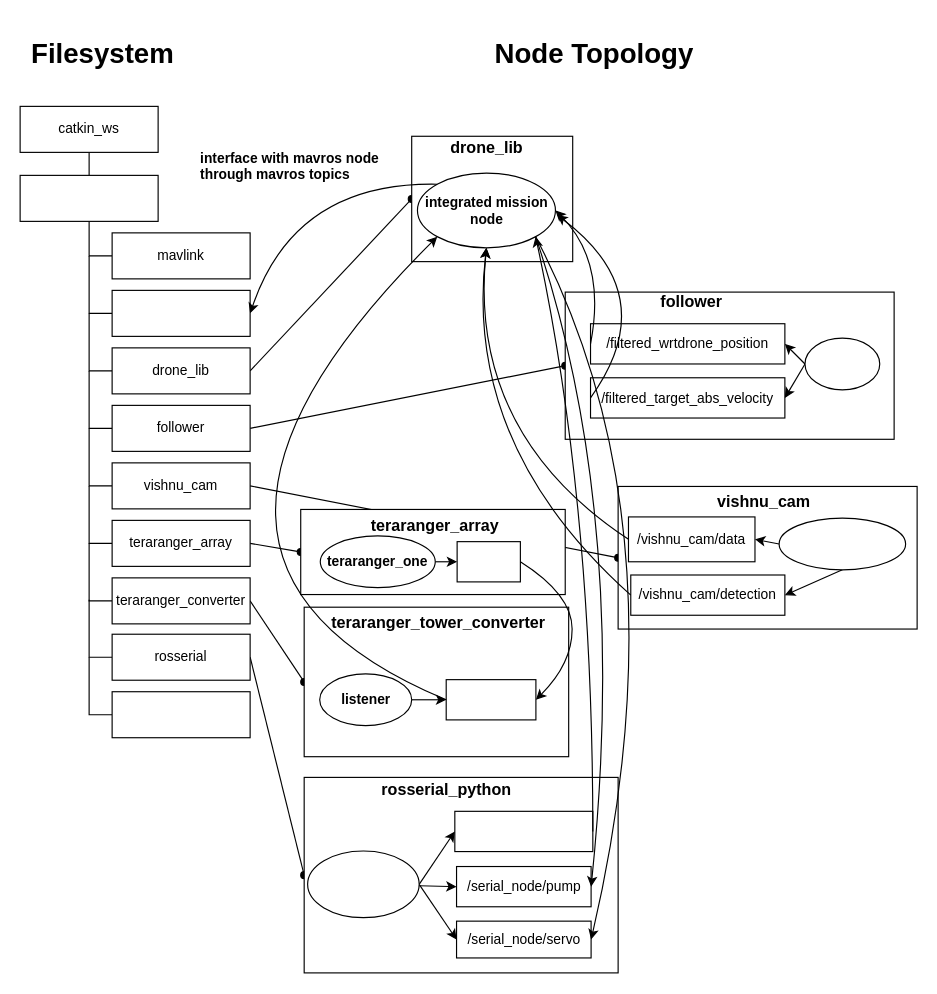
The diagram is 937 pixels wide and 994 high, and some of its shapes have lost their labels. Here are the shapes that lost their labels. From the top down, the centre of each, then its label:
At [88,197]: "src".
At [180,312]: "mavros".
At [842,363]: "kf_node".
At [488,561]: "/ranges".
At [842,543]: "vishnu_cam_node".
At [180,714]: "*dependencies".
At [490,699]: "/laser/scan".
At [523,831]: "/fsr_analog".
At [362,884]: "serial_node.py".
